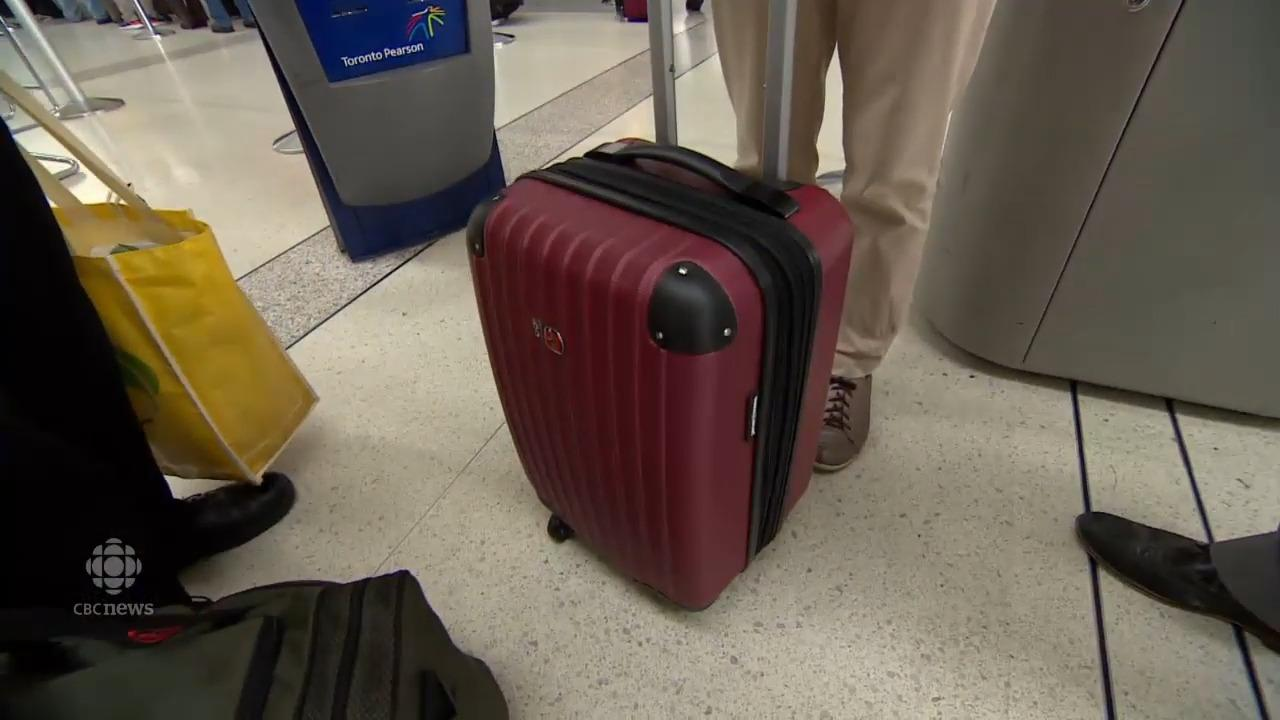luggage: (466, 132, 856, 621)
